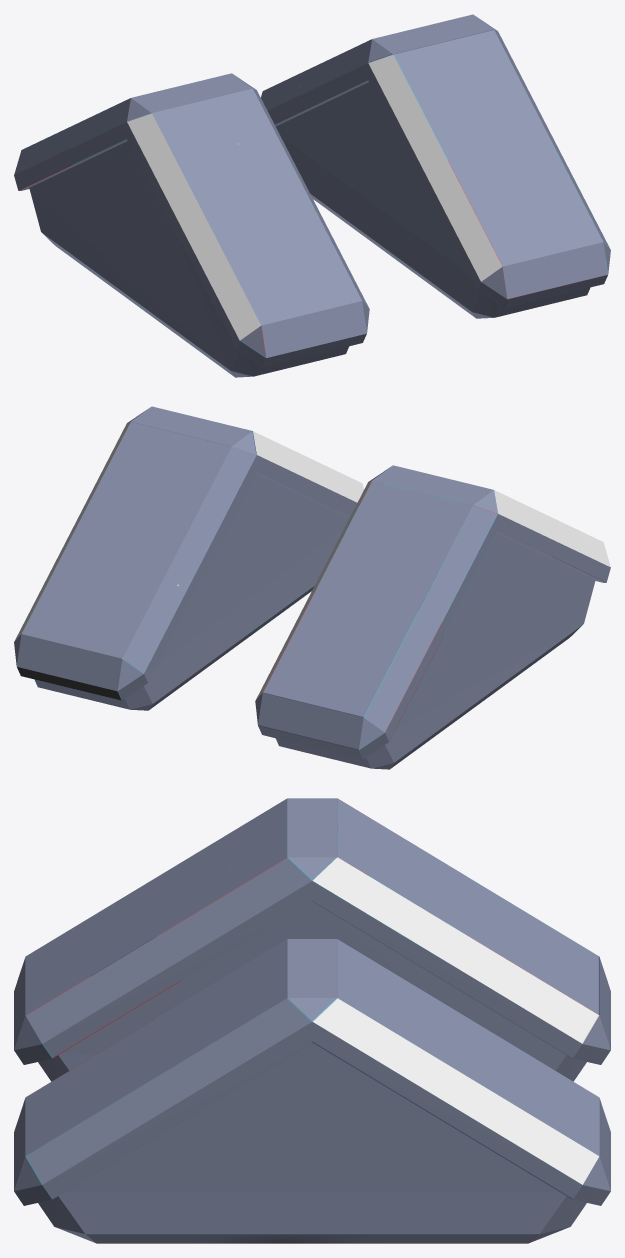
Rendered from playerLeg.obj.
The picture shows the model from 3 angles, top to bottom: view 1: azimuth 30°, elevation 25°; view 2: azimuth 150°, elevation 25°; view 3: azimuth 270°, elevation 25°; orthographic projection. The views are drawn at different scales.
Parts seen in each view (by area): view 1: Leg; view 2: Leg; view 3: Leg.
Part boxes in pixels (x1=…): Leg: x1=14, y1=14, x2=610, y2=377; Leg: x1=14, y1=406, x2=610, y2=769; Leg: x1=14, y1=798, x2=610, y2=1243.
Size of the model in its own units: 1.69 by 0.9034 by 1.97.
Materials: 1 (1 with a texture image).
